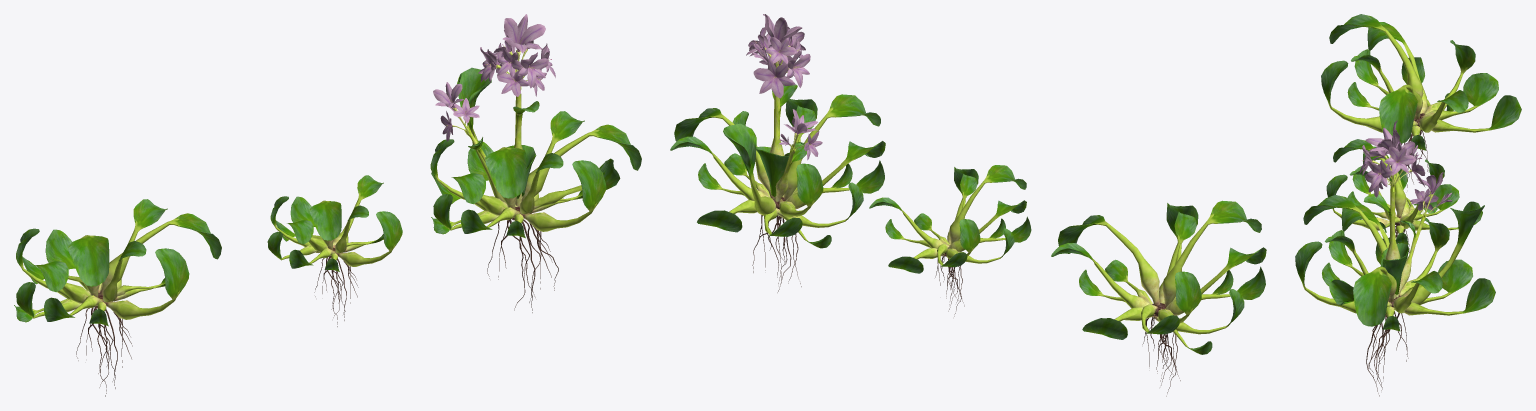
The model's file is SSZW_shuihulu.fbx.
3 renders of one model, left to right at view 1: azimuth 30°, elevation 25°; view 2: azimuth 150°, elevation 25°; view 3: azimuth 270°, elevation 25°, orthographic. The views are drawn at different scales.
Visible parts, largest first — view 1: SSZW_shuihulu_3, SSZW_shuihulu_1, SSZW_shuihulu_2, SSZW_shuihulu_hua1; view 2: SSZW_shuihulu_3, SSZW_shuihulu_1, SSZW_shuihulu_2, SSZW_shuihulu_hua1; view 3: SSZW_shuihulu_3, SSZW_shuihulu_1, SSZW_shuihulu_2, SSZW_shuihulu_hua1.
Part boxes in pixels (x1,y1,x2,y2): SSZW_shuihulu_3: [430, 37, 641, 312]; SSZW_shuihulu_1: [14, 199, 221, 396]; SSZW_shuihulu_2: [267, 175, 402, 326]; SSZW_shuihulu_hua1: [433, 14, 555, 141]; SSZW_shuihulu_3: [670, 40, 885, 292]; SSZW_shuihulu_1: [1051, 200, 1266, 396]; SSZW_shuihulu_2: [869, 165, 1031, 316]; SSZW_shuihulu_hua1: [746, 14, 822, 160]; SSZW_shuihulu_3: [1295, 152, 1495, 396]; SSZW_shuihulu_1: [1321, 14, 1521, 187]; SSZW_shuihulu_2: [1326, 139, 1482, 252]; SSZW_shuihulu_hua1: [1359, 120, 1452, 210].
Bounding box in the file's own units: 118 × 55.15 × 42.14.
2 materials, 2 textured.
